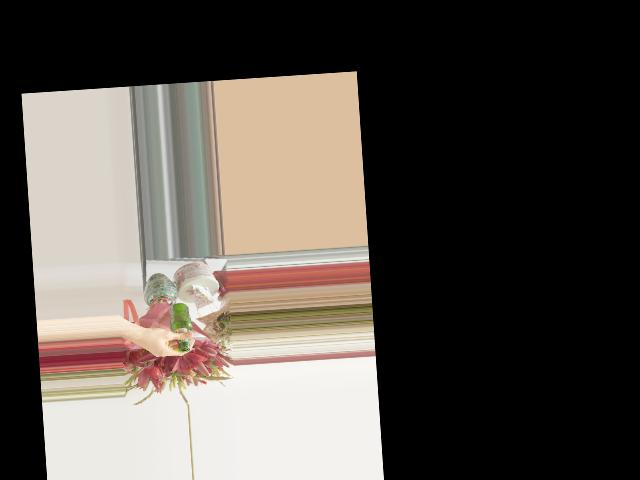beer: (169, 301, 194, 352)
